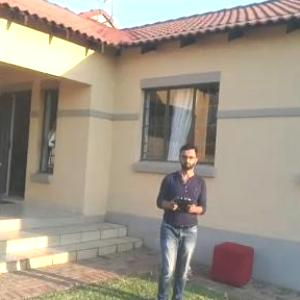follow: (148, 140, 212, 299)
